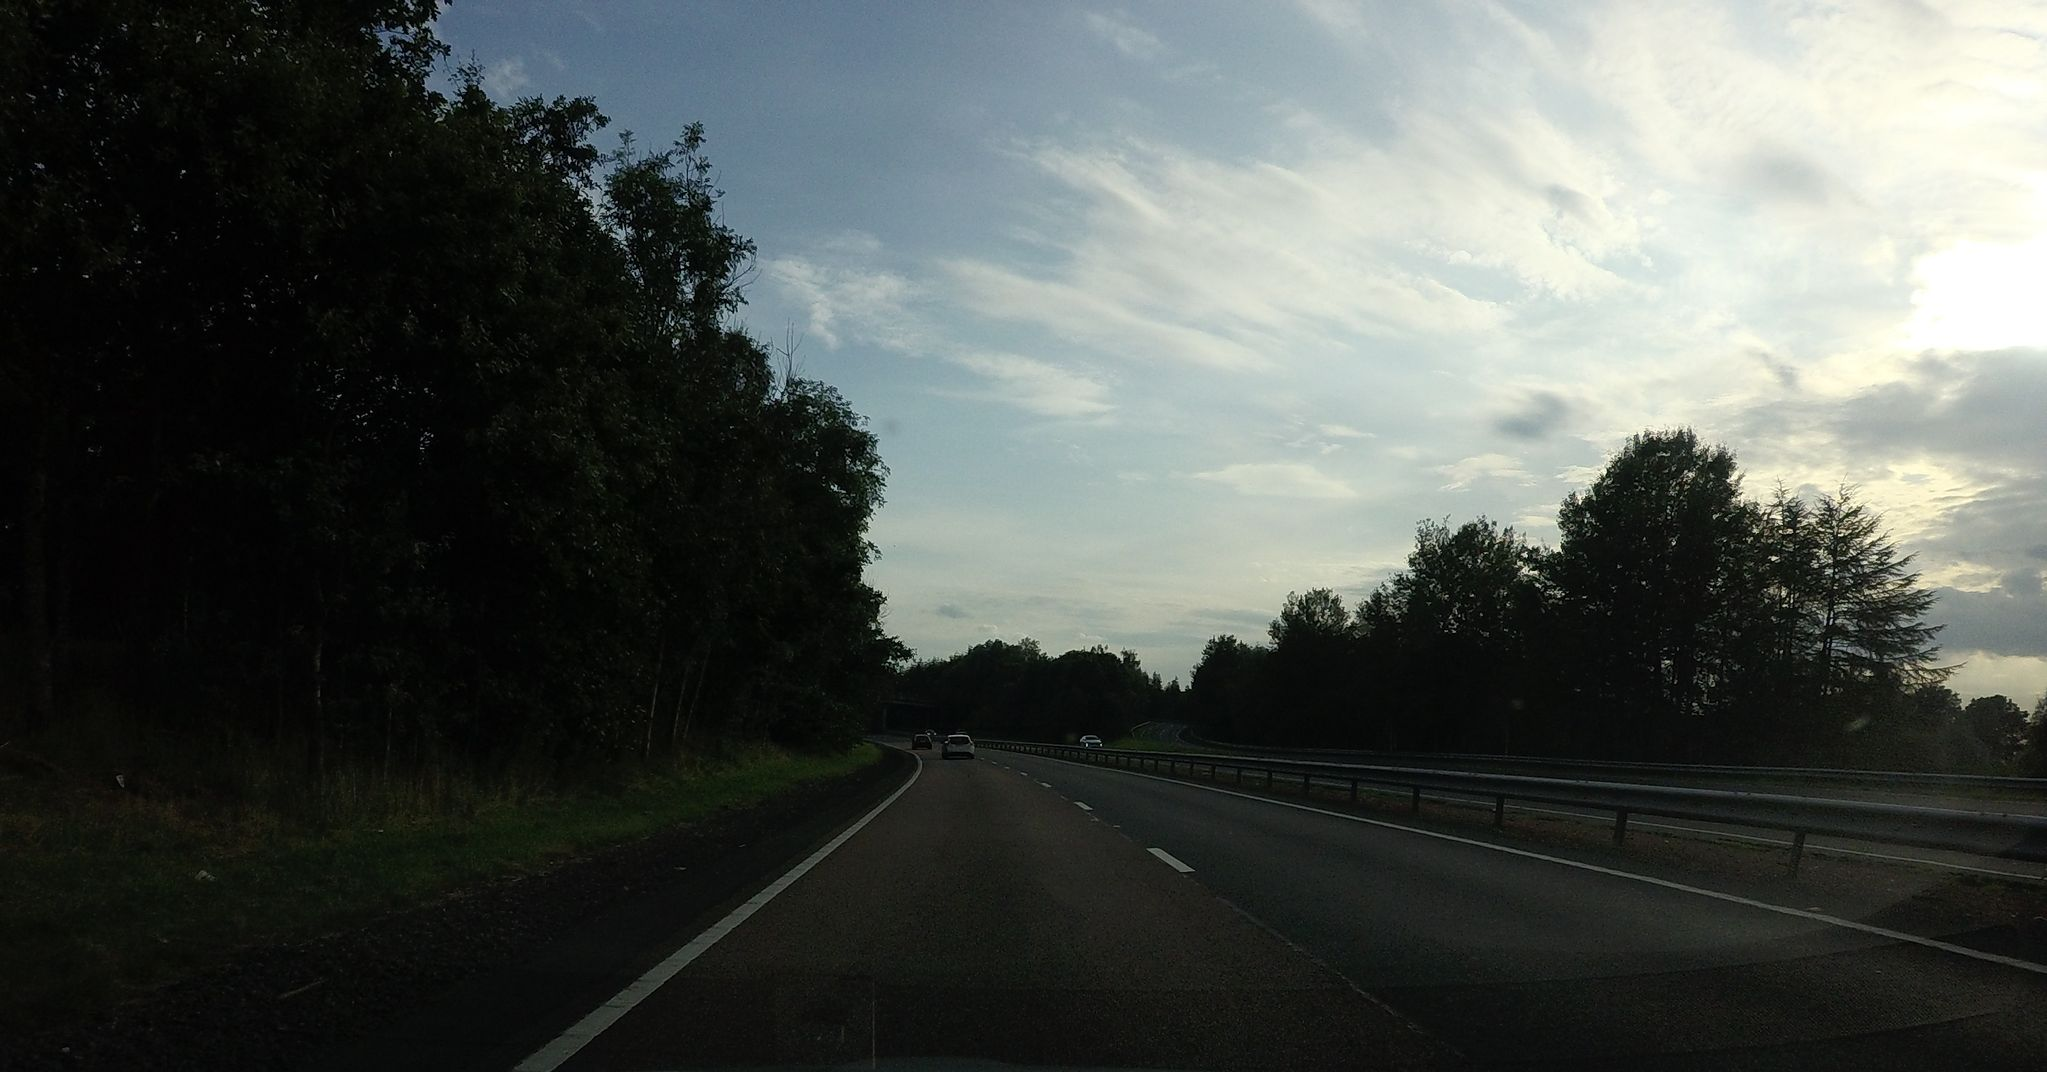car: (940, 732, 975, 759), (1079, 734, 1102, 749), (911, 734, 933, 749)
